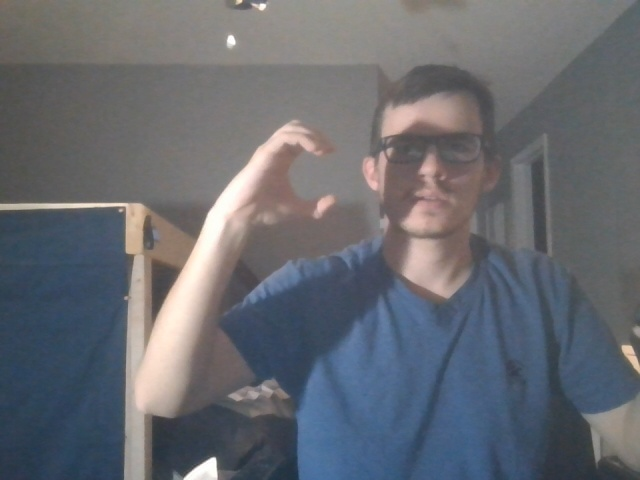C: (221, 115, 350, 245)
